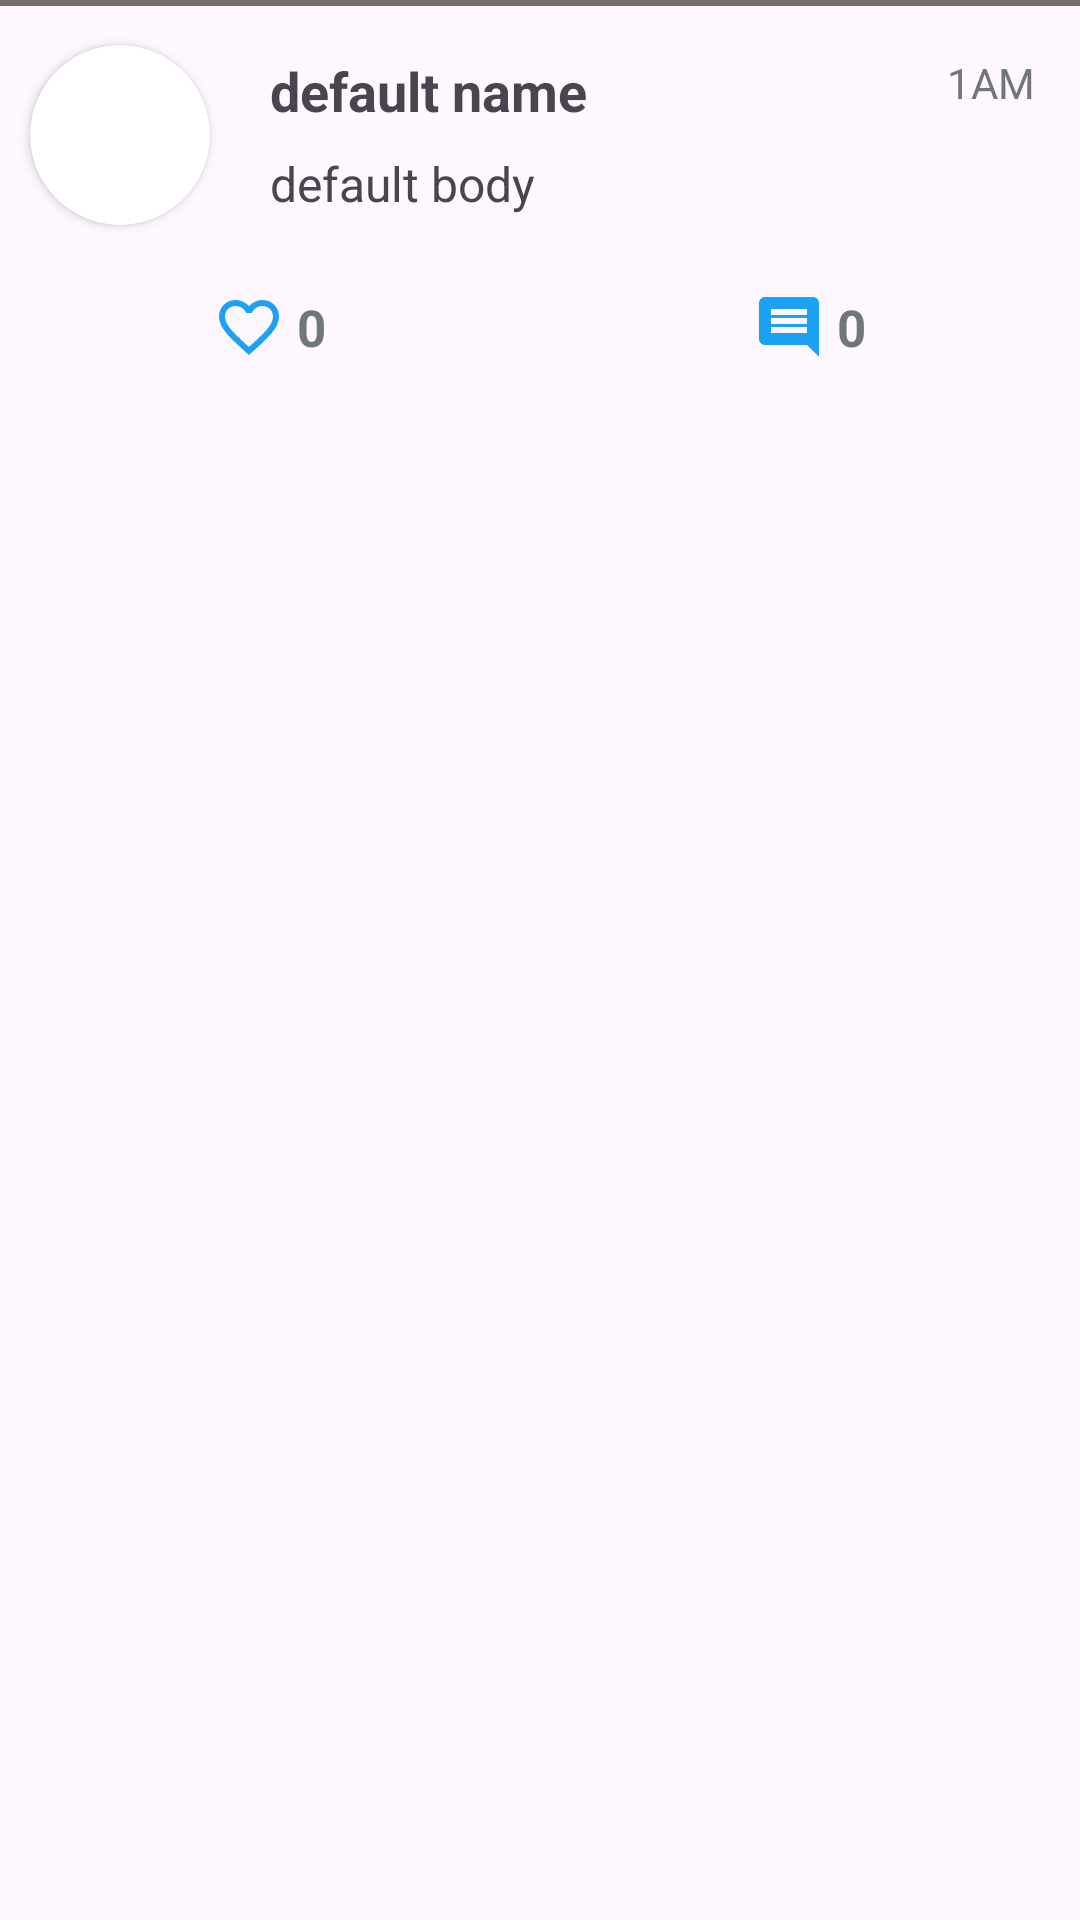

Named icons in this screenshot (1080x1920) and their bounding boxes, (x1, y1, x2, y2):
comments: (759, 297, 819, 357)
heart empty: (219, 300, 279, 355)
